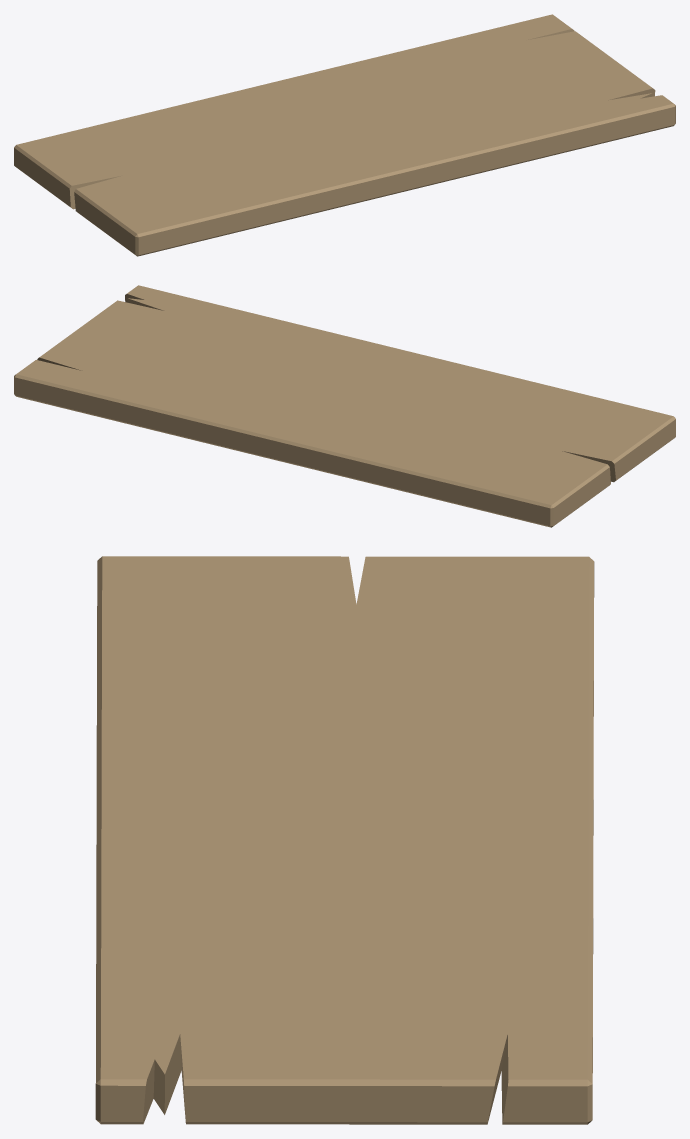
The model's file is WoodenPlankSmall.fbx.
3 views of the same model, one above another, from view 1: azimuth 30°, elevation 25°; view 2: azimuth 150°, elevation 25°; view 3: azimuth 270°, elevation 25° (orthographic). The views are drawn at different scales.
Parts seen in each view (by area): view 1: WoodenPilarSmall; view 2: WoodenPilarSmall; view 3: WoodenPilarSmall.
Part boxes in pixels (left/top/right/bottom): WoodenPilarSmall: left=14, top=14, right=675, bottom=256; WoodenPilarSmall: left=14, top=285, right=675, bottom=527; WoodenPilarSmall: left=95, top=556, right=594, bottom=1124.
Size of the model in its own units: 503 by 20 by 201.
